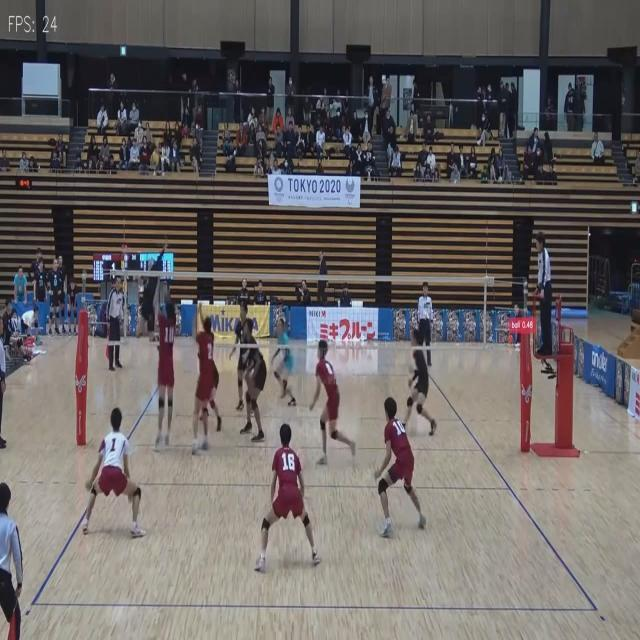volleyball: (149, 152, 159, 166)
